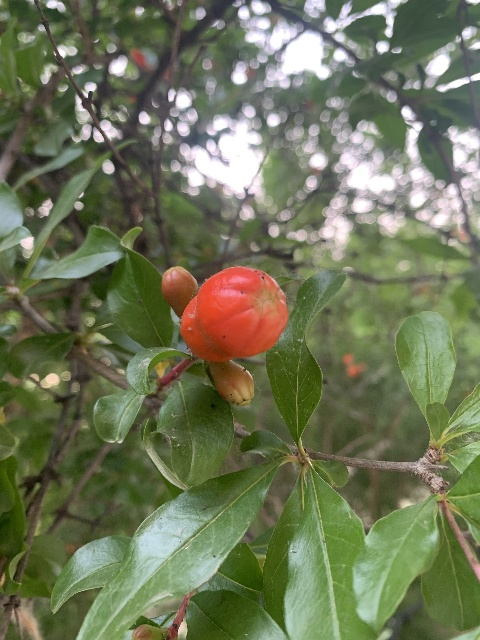bud: (180, 267, 289, 362), (209, 361, 254, 405), (161, 265, 197, 316)
